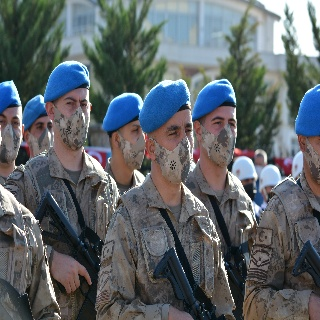rifle: (34, 191, 104, 310), (151, 246, 214, 320), (290, 239, 320, 288)
